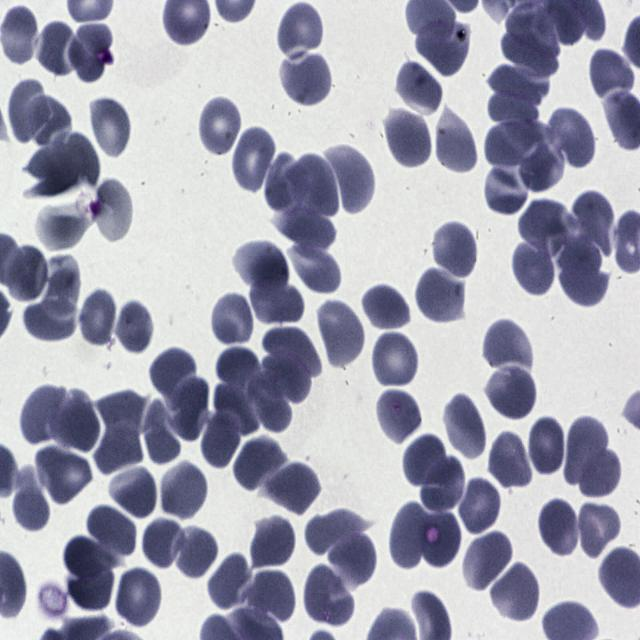red blood cell: (288, 155, 342, 225), (36, 443, 92, 507), (23, 286, 79, 349), (560, 240, 610, 310), (486, 122, 562, 168), (91, 409, 143, 476), (414, 264, 468, 327), (20, 386, 74, 449), (442, 391, 489, 463), (260, 327, 322, 381), (158, 459, 210, 523), (304, 562, 356, 626), (383, 106, 434, 171), (432, 108, 480, 177), (232, 434, 286, 495), (232, 124, 278, 195), (544, 108, 598, 168), (414, 21, 471, 77), (505, 0, 560, 58), (88, 178, 136, 244), (49, 389, 100, 451), (87, 94, 134, 161), (30, 205, 94, 254), (263, 149, 309, 217), (317, 301, 365, 366), (331, 146, 376, 215), (151, 342, 201, 404), (279, 53, 334, 109), (518, 198, 573, 254), (569, 189, 617, 253), (306, 509, 366, 560), (197, 94, 244, 159), (276, 0, 325, 62), (564, 417, 610, 483), (432, 218, 480, 281), (89, 499, 138, 560), (250, 272, 304, 327), (464, 529, 511, 592), (70, 19, 115, 84), (575, 498, 622, 560), (387, 504, 428, 575), (263, 463, 321, 513), (488, 428, 534, 491), (511, 236, 557, 299), (492, 561, 540, 621), (236, 238, 289, 292), (482, 318, 533, 374), (458, 474, 504, 536), (274, 206, 336, 252), (168, 377, 210, 444), (485, 369, 538, 422), (112, 463, 158, 524), (142, 398, 182, 468), (402, 432, 451, 488), (517, 137, 566, 193), (244, 570, 296, 622), (396, 63, 446, 117), (42, 251, 80, 322), (2, 240, 46, 301), (502, 30, 560, 76), (537, 498, 580, 560), (116, 572, 159, 634), (260, 352, 311, 404), (327, 532, 377, 585), (200, 409, 242, 472), (210, 292, 256, 349), (421, 459, 467, 516), (252, 372, 294, 434), (36, 21, 80, 79), (289, 245, 341, 294), (10, 80, 48, 147), (588, 50, 636, 103), (527, 414, 566, 478), (372, 332, 418, 386), (78, 286, 118, 348), (113, 298, 155, 357), (96, 391, 148, 438), (208, 552, 250, 610), (377, 390, 421, 445), (0, 2, 36, 68), (488, 62, 544, 104), (578, 447, 622, 500), (419, 510, 459, 567), (62, 536, 114, 579), (215, 384, 258, 436), (28, 96, 72, 145), (363, 285, 411, 329), (218, 348, 262, 396), (176, 528, 218, 578), (486, 165, 528, 215), (252, 518, 294, 567), (10, 484, 50, 534), (140, 520, 181, 568), (68, 567, 116, 608), (489, 91, 539, 123)
